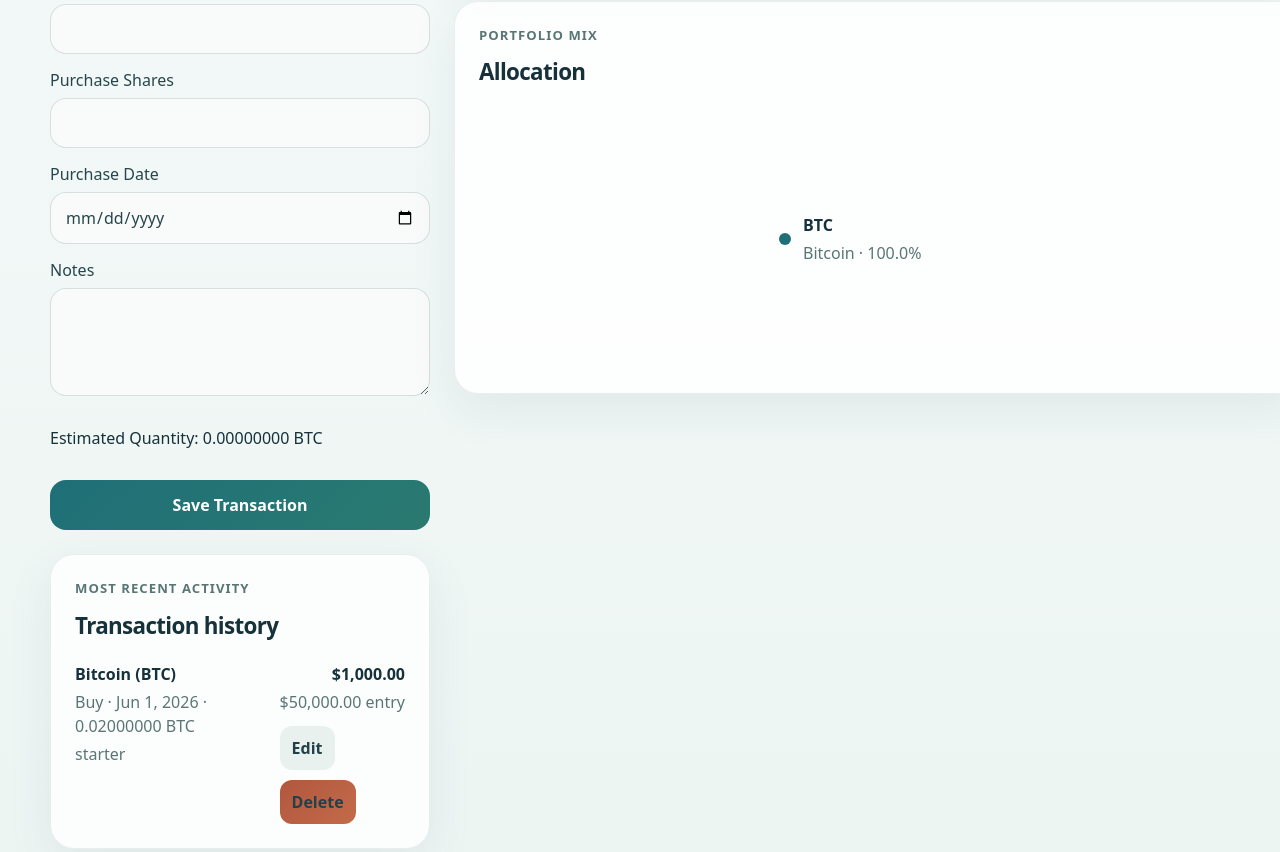
shows an inline error when edited transaction persistence fails
The image size is (1280, 852).
(page scrolled)
Click the button with aria-label "edit bitcoin": [307, 748] box [280,726,334,770]
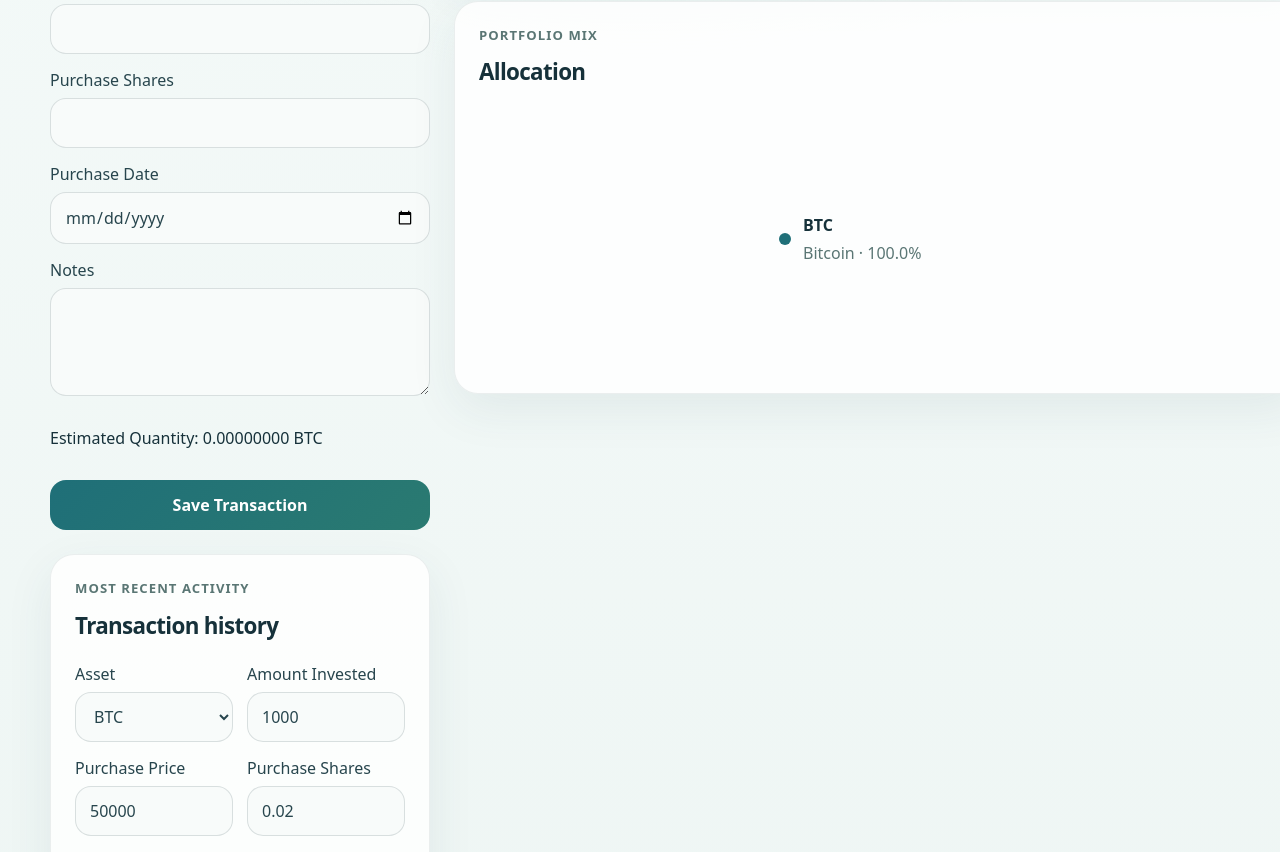
Replace the text in the number field labelled "Amount Invested" with "1500": [326, 718] box [247,692,405,742]
(page scrolled)
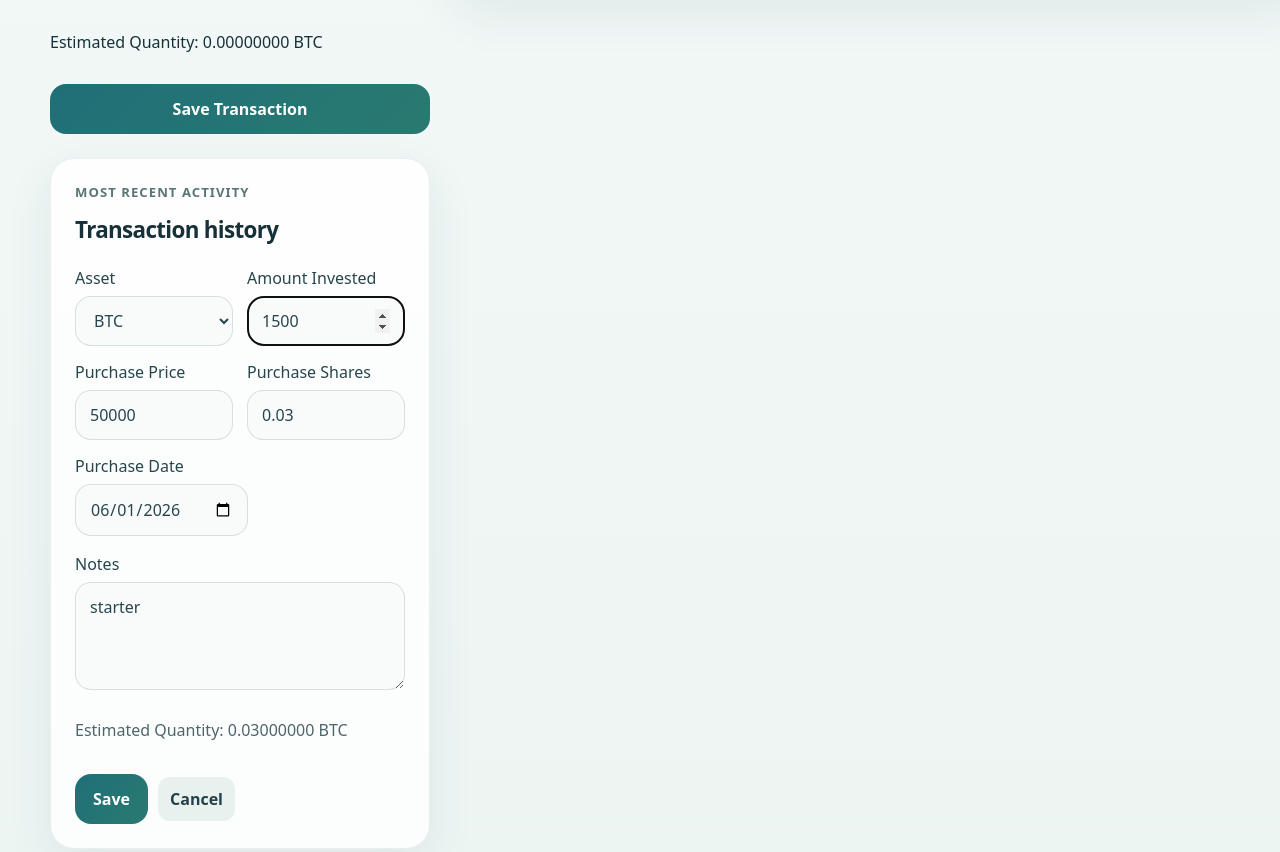
Click the button with aria-label "save bitcoin": [112, 800] box [75,774,148,824]
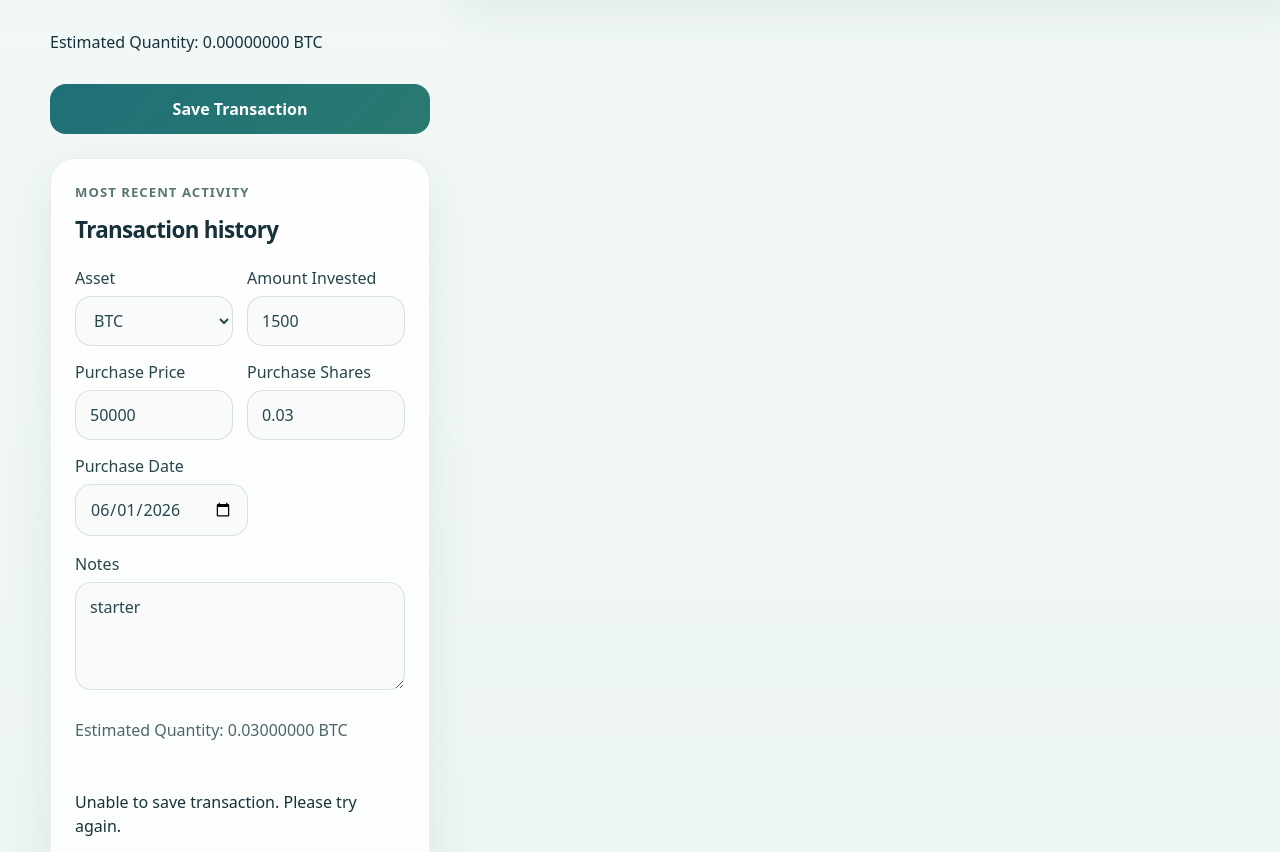
Result: the text "Unable to save transaction. Please try again." is shown at [75,790,405,838]
